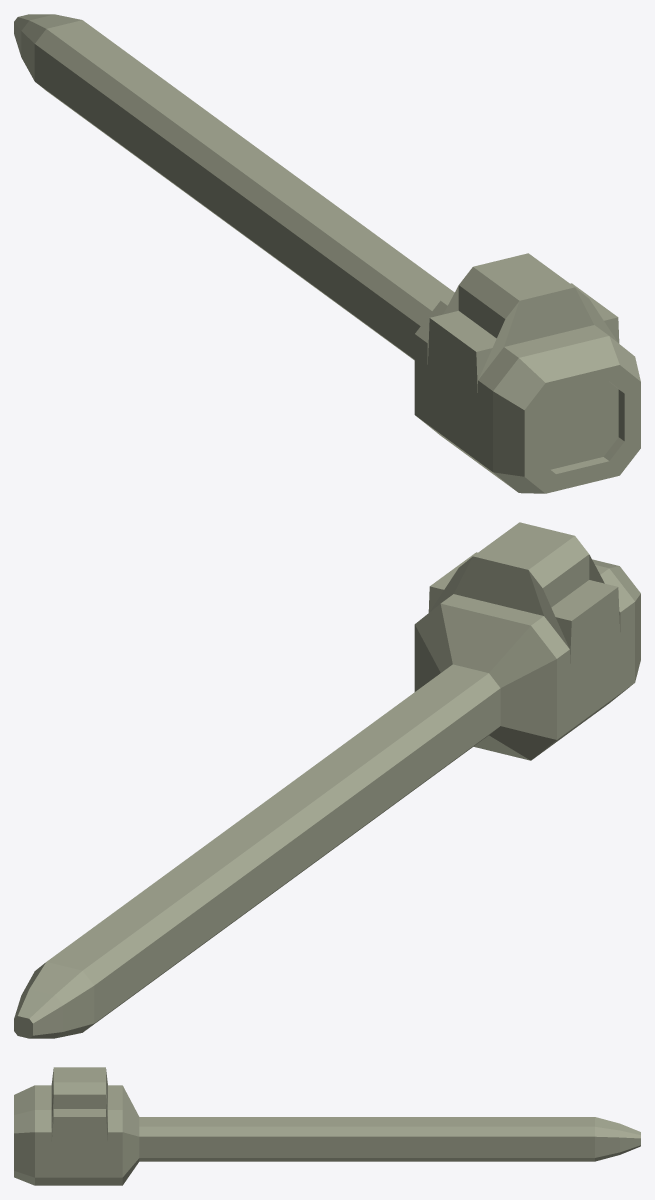
Rendered from freighter_concord.glb.
3 views of the same model, one above another, from view 1: azimuth 30°, elevation 25°; view 2: azimuth 150°, elevation 25°; view 3: azimuth 270°, elevation 25° (orthographic). The views are drawn at different scales.
Visible parts, largest first — view 1: hull_hull; view 2: hull_hull; view 3: hull_hull.
Part boxes in pixels (<box>): hull_hull: <box>14,14,640,493</box>; hull_hull: <box>14,522,640,1038</box>; hull_hull: <box>14,1067,640,1185</box>.
Size of the model in its own units: 44 by 52 by 300.
